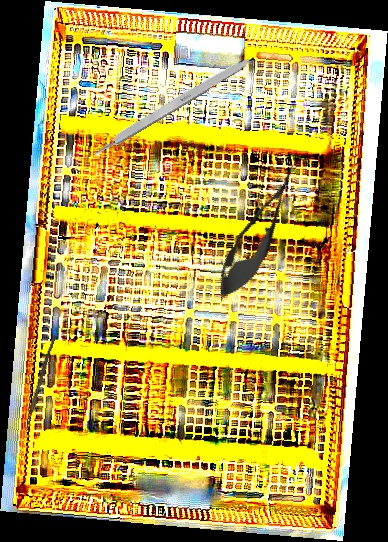Micro Scissor: (205, 154, 312, 311)
Scalpel Handle: (89, 50, 257, 159)
Surgical Spoon: (21, 334, 56, 441)
